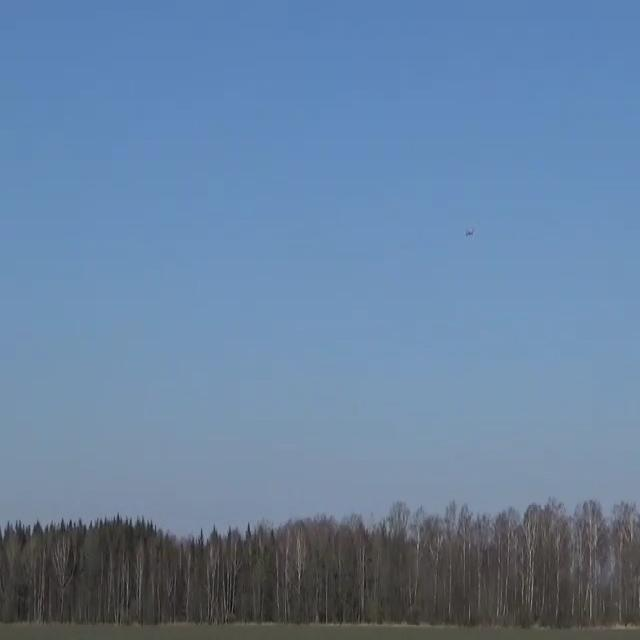drone: (465, 228, 474, 236)
